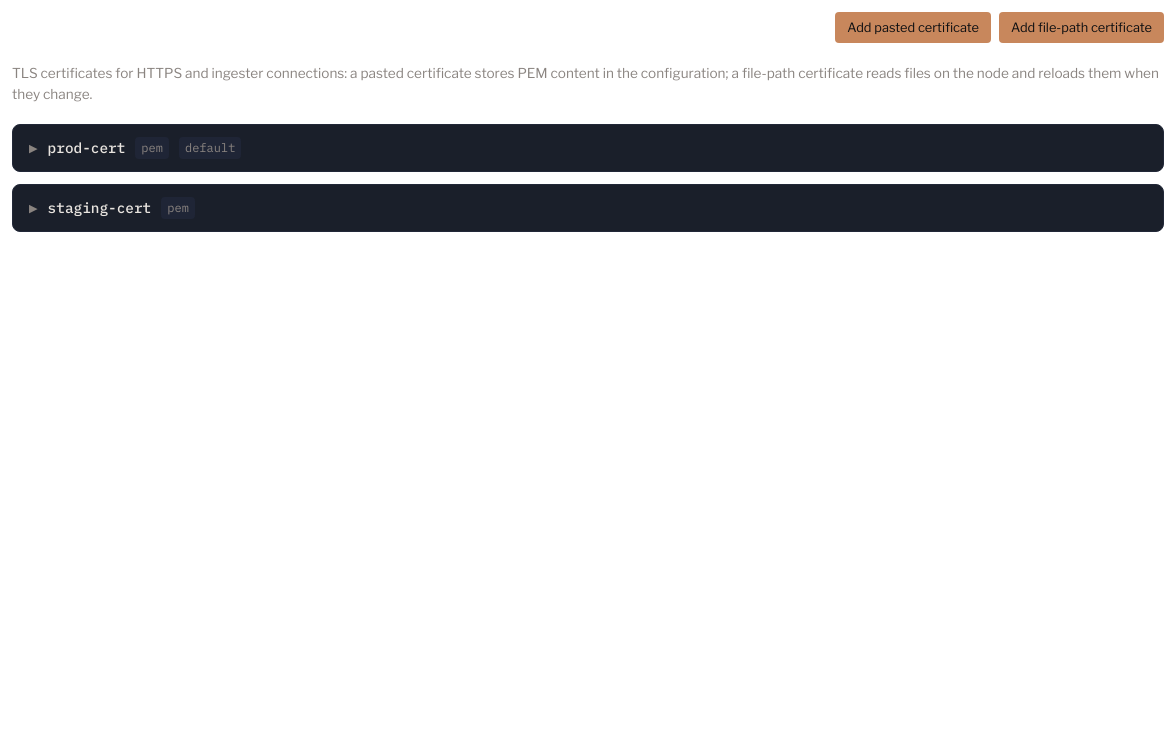
Test case: CertificatesSettings › hides add buttons when a cert is expanded
Note: Expand a cert
Click the text "prod-cert" at (86, 148), box [48,137,125,159]
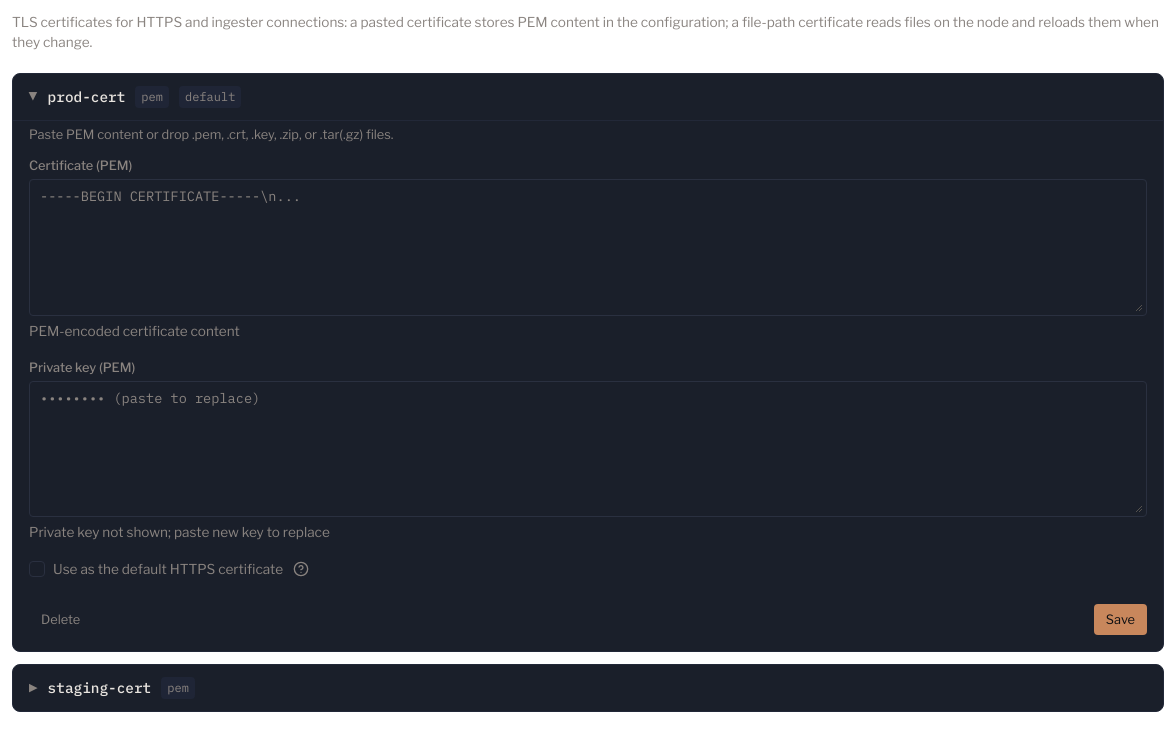
Now the button "Add pasted certificate" is gone
Now the button "Add file-path certificate" is gone
